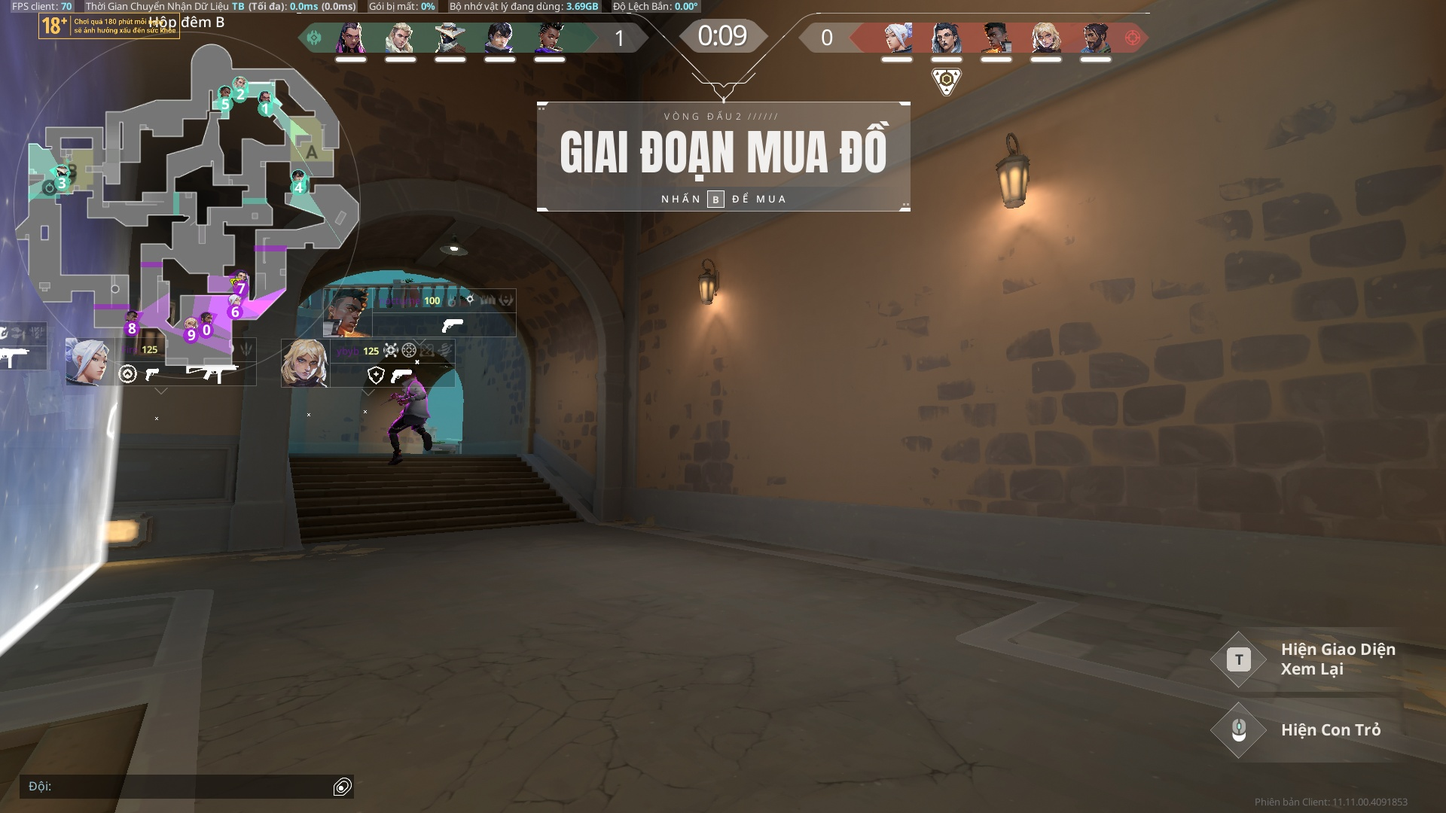body: (402, 382, 429, 411)
